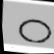no answer: (15, 15, 54, 46)
